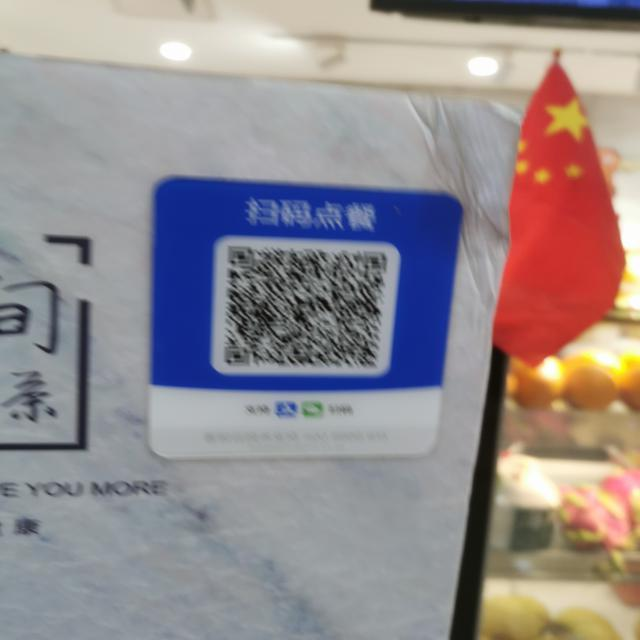qr_code: (223, 245, 390, 368)
